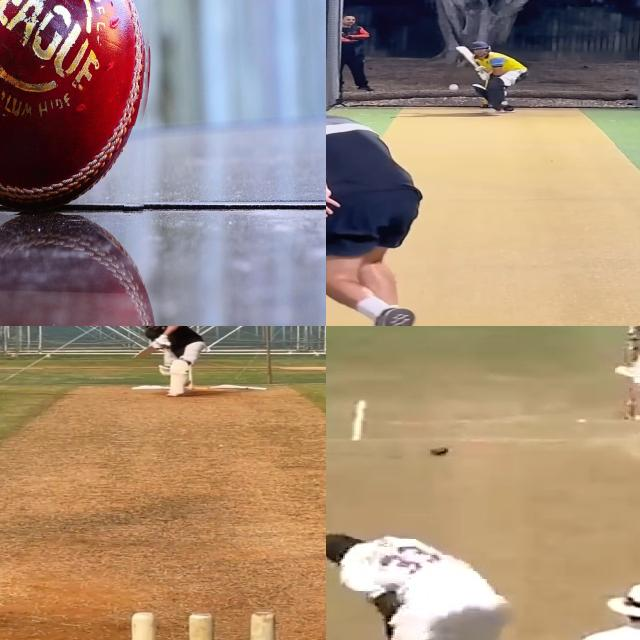Cricket ball: (0, 0, 154, 215), (428, 445, 451, 457), (448, 83, 460, 91)
